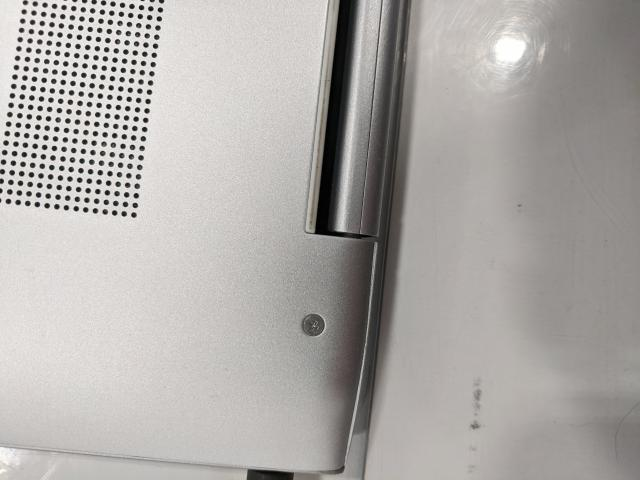CRS: (303, 314, 325, 336)
